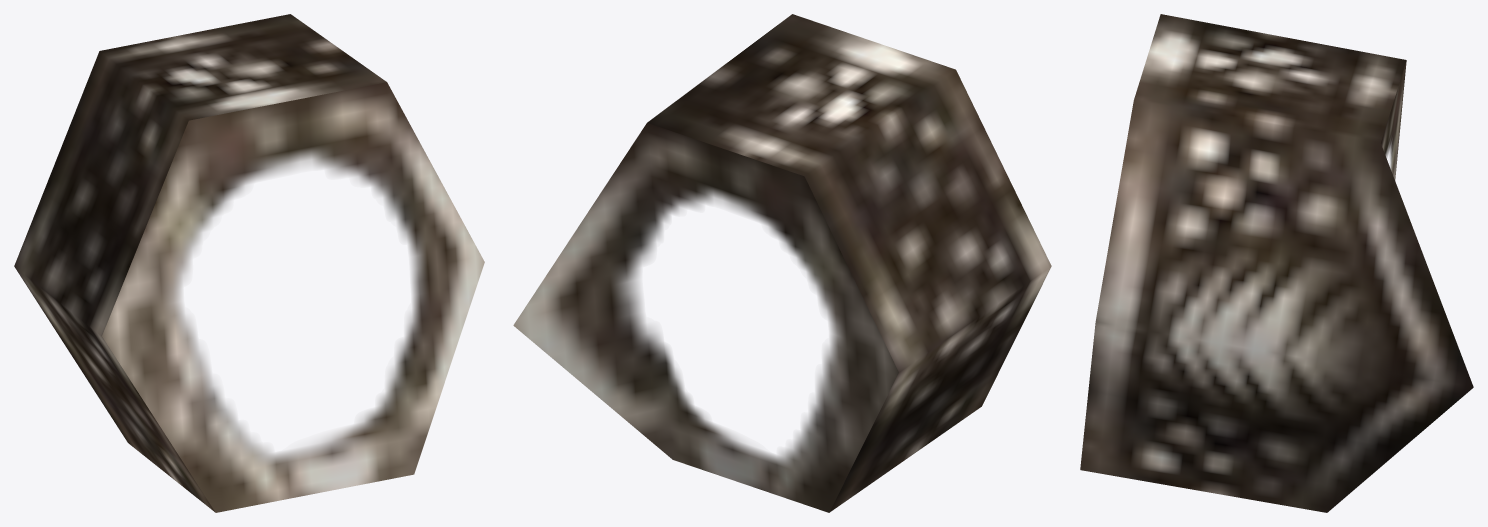
File: ex01shadow_master_7_wrist_left.glb
3 views of the same model, side by side, from view 1: azimuth 30°, elevation 25°; view 2: azimuth 150°, elevation 25°; view 3: azimuth 270°, elevation 25° (orthographic). The views are drawn at different scales.
Visible parts, largest first — view 1: model_ex01shadow_master_7_wrist_left; view 2: model_ex01shadow_master_7_wrist_left; view 3: model_ex01shadow_master_7_wrist_left.
Part boxes in pixels (x1,y1,x2,y2): model_ex01shadow_master_7_wrist_left: (14,14,484,512); model_ex01shadow_master_7_wrist_left: (513,14,1051,512); model_ex01shadow_master_7_wrist_left: (1080,14,1473,512).
Size of the model in its own units: 0.1757 by 0.1704 by 0.1511.
Materials: 1 (1 with a texture image).
